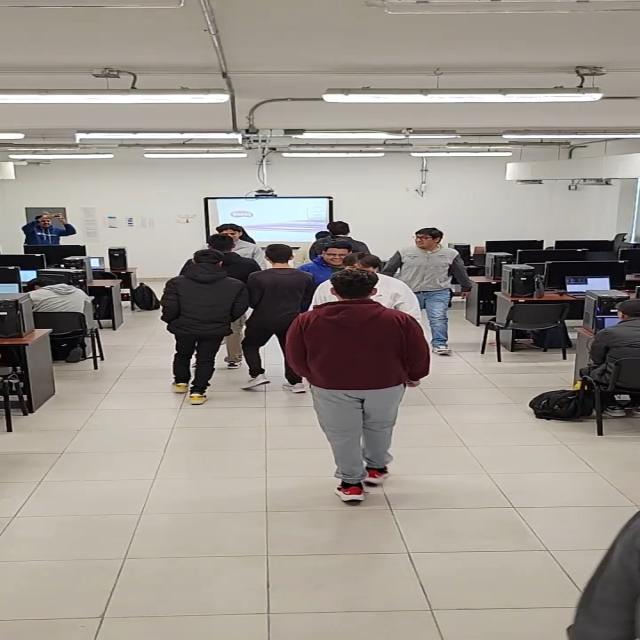Persona: (301, 272, 432, 486), (397, 227, 472, 361), (168, 247, 229, 404), (250, 240, 307, 396), (206, 219, 265, 262), (15, 213, 79, 251), (312, 220, 369, 244)
